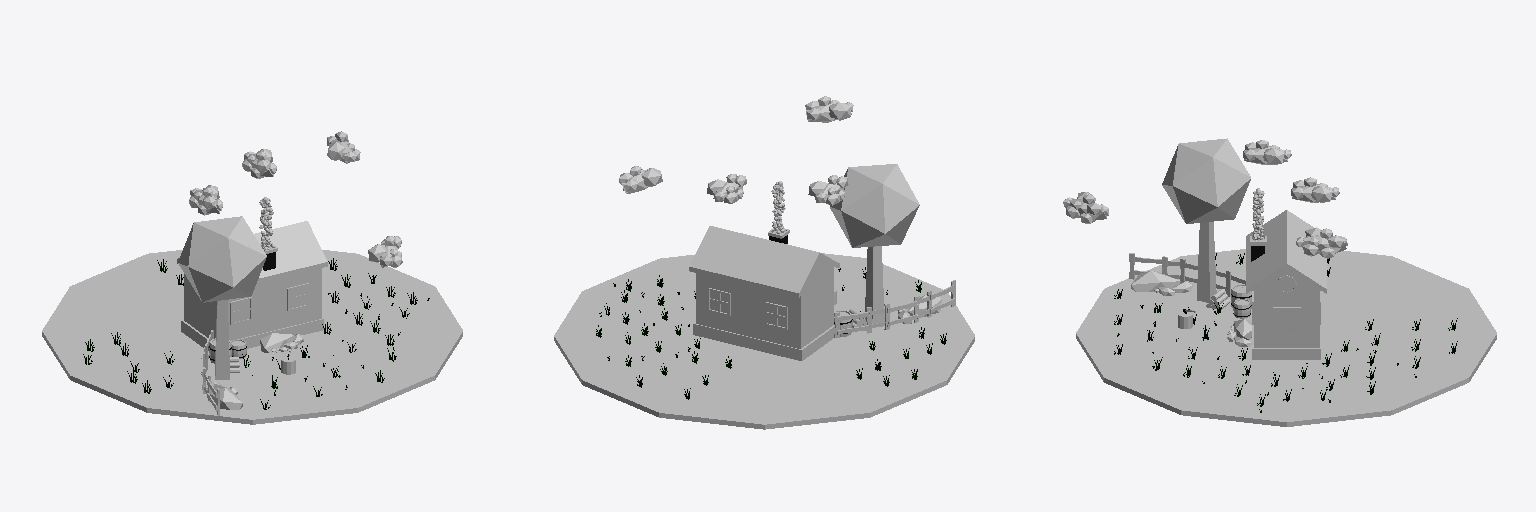
The model's file is Low_Poly_Scene_House_OBJ.obj.
The picture shows the model from 3 angles: view 1: azimuth 30°, elevation 25°; view 2: azimuth 150°, elevation 25°; view 3: azimuth 270°, elevation 25°; orthographic projection.
Parts seen in each view (by area): view 1: Plane_Cylinder.001, House_Cube, Tree_Icosphere.007, Grass_Cube.031, Cloud_1_Icosphere.019, Cloud_3_Icosphere.021, Cloud_4_Icosphere.014, Cloud_2_Icosphere.020, Bush_2_Icosphere.003, Bush_1_Icosphere.008, Smoke_Object_Icosphere; view 2: Plane_Cylinder.001, House_Cube, Tree_Icosphere.007, Grass_Cube.031, Cloud_1_Icosphere.019, Cloud_3_Icosphere.021, Cloud_4_Icosphere.014, Cloud_2_Icosphere.020, Fence_5_Cube.020; view 3: Plane_Cylinder.001, House_Cube, Tree_Icosphere.007, Grass_Cube.031, Cloud_2_Icosphere.020, Bush_1_Icosphere.008, Cloud_1_Icosphere.019, Cloud_3_Icosphere.021, Cloud_4_Icosphere.014.
Boxes of the visible parts, box(x1,y1,x2,y2) form: Plane_Cylinder.001: box(42, 250, 462, 424); House_Cube: box(177, 221, 327, 350); Tree_Icosphere.007: box(178, 216, 266, 379); Grass_Cube.031: box(83, 258, 429, 409); Cloud_1_Icosphere.019: box(368, 236, 402, 267); Cloud_3_Icosphere.021: box(242, 149, 276, 178); Cloud_4_Icosphere.014: box(189, 185, 222, 215); Cloud_2_Icosphere.020: box(327, 131, 360, 163); Bush_2_Icosphere.003: box(260, 333, 303, 352); Bush_1_Icosphere.008: box(206, 382, 242, 409); Smoke_Object_Icosphere: box(259, 197, 273, 250); Plane_Cylinder.001: box(554, 253, 974, 429); House_Cube: box(689, 226, 839, 360); Tree_Icosphere.007: box(830, 164, 919, 323); Grass_Cube.031: box(596, 267, 946, 399); Cloud_1_Icosphere.019: box(805, 96, 853, 122); Cloud_3_Icosphere.021: box(707, 174, 746, 203); Cloud_4_Icosphere.014: box(808, 175, 848, 205); Cloud_2_Icosphere.020: box(619, 166, 662, 193); Fence_5_Cube.020: box(834, 307, 871, 337); Plane_Cylinder.001: box(1076, 249, 1496, 426); House_Cube: box(1246, 210, 1326, 359); Tree_Icosphere.007: box(1162, 138, 1250, 302); Grass_Cube.031: box(1114, 253, 1457, 412); Cloud_2_Icosphere.020: box(1296, 227, 1347, 258); Bush_1_Icosphere.008: box(1131, 271, 1192, 295); Cloud_1_Icosphere.019: box(1063, 192, 1108, 223); Cloud_3_Icosphere.021: box(1291, 177, 1339, 202); Cloud_4_Icosphere.014: box(1243, 140, 1291, 164).
Size of the model in its own units: 39.97 by 18.57 by 41.23.